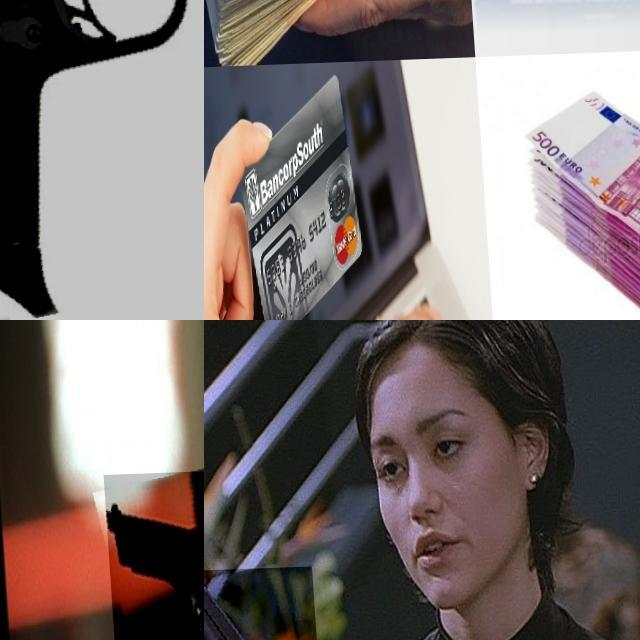gun-knife-thesis - v11 Yolov5 augmented: (0, 0, 204, 320), (100, 471, 204, 640)
